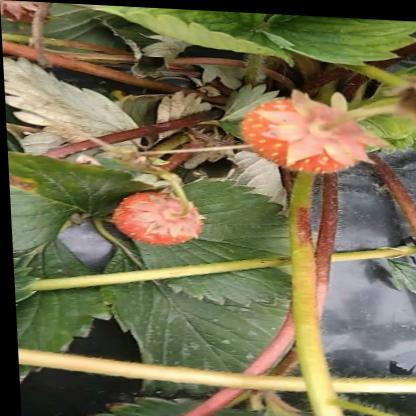ripe: (164, 142, 218, 207)
